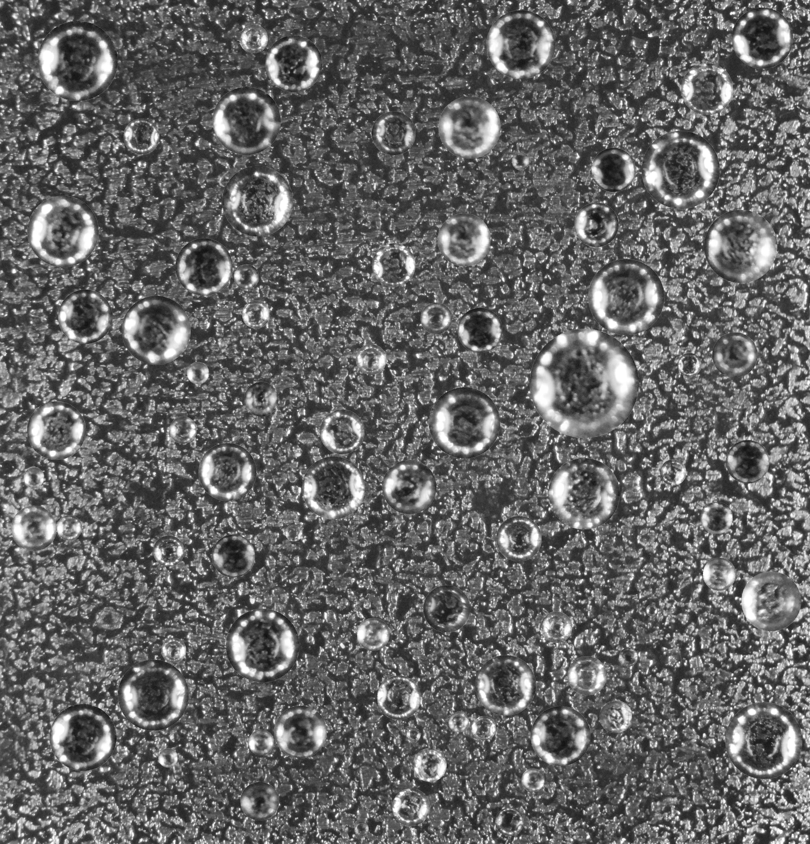Bubble: (529, 328, 638, 437), (37, 20, 117, 100), (641, 130, 719, 208), (725, 702, 802, 779), (588, 259, 664, 335), (225, 608, 299, 682), (704, 209, 777, 282), (27, 195, 98, 267), (117, 659, 188, 730), (429, 387, 500, 458), (548, 458, 619, 529), (222, 165, 292, 236), (121, 295, 190, 364), (486, 10, 555, 78), (212, 86, 280, 154), (49, 704, 116, 770), (302, 456, 364, 519), (438, 96, 500, 158), (732, 7, 793, 68), (530, 706, 590, 766), (475, 655, 535, 715), (741, 571, 801, 631), (27, 401, 85, 459), (198, 443, 256, 500), (175, 238, 232, 295), (265, 35, 322, 91), (382, 460, 436, 514), (58, 289, 112, 343), (437, 213, 490, 266), (274, 705, 326, 758), (681, 63, 733, 114), (423, 585, 470, 632), (11, 505, 56, 551), (496, 516, 541, 561), (712, 332, 757, 377), (457, 307, 502, 352), (319, 409, 364, 454), (371, 111, 415, 155), (591, 147, 635, 191), (574, 202, 618, 246), (377, 675, 420, 719), (372, 243, 415, 286), (211, 534, 254, 577), (726, 440, 769, 483), (567, 656, 606, 695), (240, 782, 278, 820), (392, 788, 429, 826), (123, 118, 159, 154), (244, 382, 278, 416), (599, 700, 632, 733), (413, 748, 446, 781), (703, 557, 735, 590), (420, 302, 452, 334), (357, 618, 389, 650), (700, 501, 732, 533), (540, 611, 572, 642), (153, 535, 184, 566), (356, 344, 386, 374), (495, 807, 523, 836), (239, 24, 267, 53), (242, 300, 269, 328), (169, 416, 196, 443), (660, 459, 686, 485), (248, 729, 273, 755), (233, 264, 258, 289), (56, 515, 81, 540), (161, 638, 186, 662), (471, 716, 495, 740), (677, 353, 701, 376), (521, 768, 544, 791), (186, 362, 208, 384), (23, 467, 44, 487), (448, 712, 468, 732), (158, 748, 177, 767), (619, 647, 637, 666), (511, 152, 529, 169), (285, 524, 302, 541), (354, 821, 368, 836), (406, 727, 420, 742), (645, 605, 657, 616)
